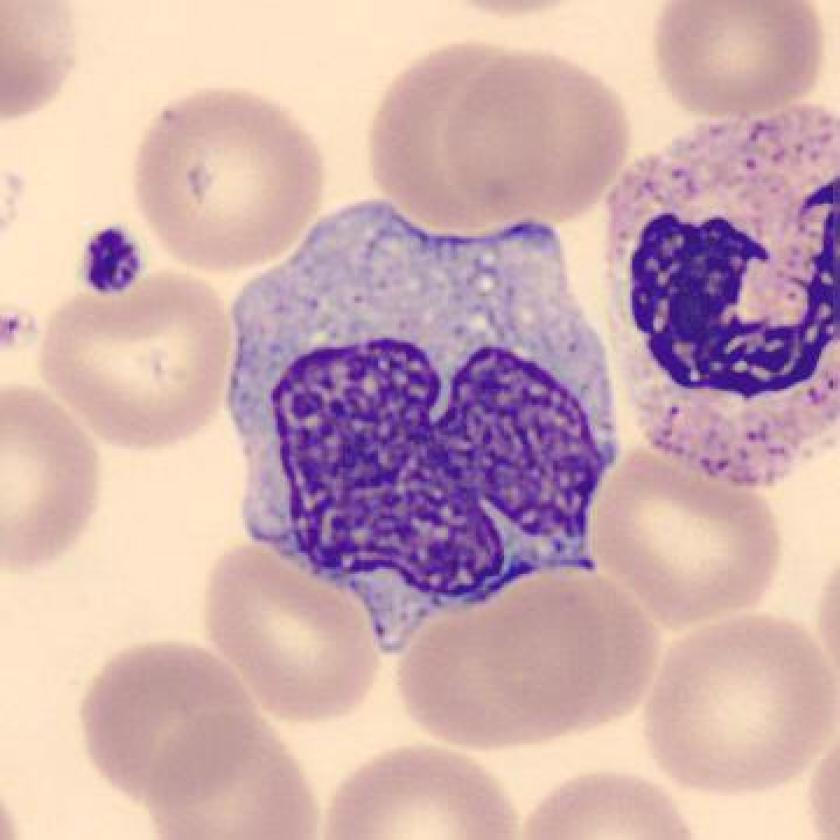monocyte: (214, 193, 641, 661)
